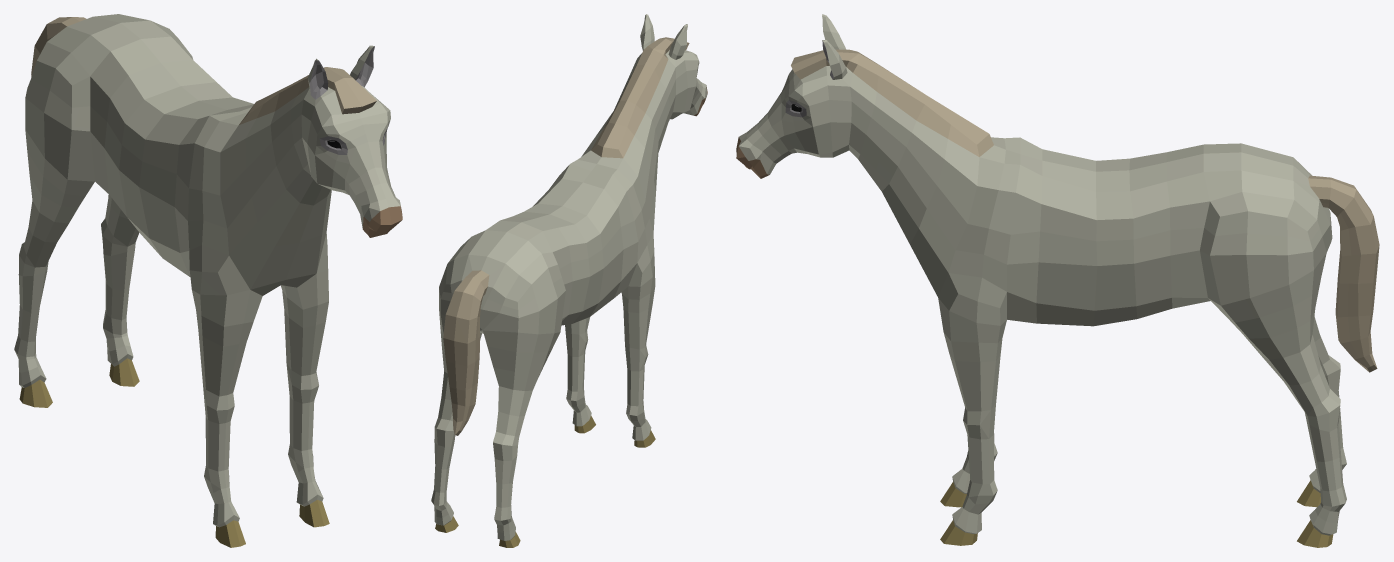
Rendered from horse_white.glb.
3 renders of one model, left to right at view 1: azimuth 30°, elevation 25°; view 2: azimuth 150°, elevation 25°; view 3: azimuth 270°, elevation 25°, orthographic. The views are drawn at different scales.
Parts seen in each view (by area): view 1: Horse; view 2: Horse; view 3: Horse.
Boxes of the visible parts, <box> form: Horse: <box>14,14,402,547</box>; Horse: <box>431,14,707,547</box>; Horse: <box>736,14,1379,547</box>.
Size of the model in its own units: 1.41 by 4.82 by 5.68.
